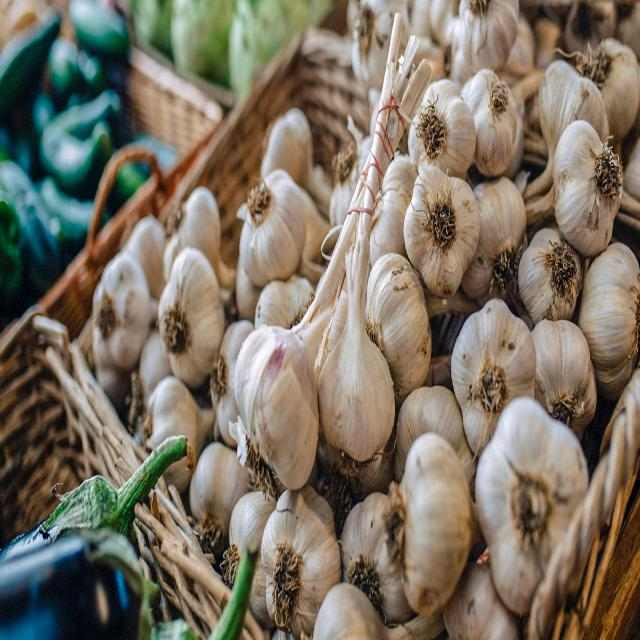garlic: (476, 396, 572, 604), (233, 319, 319, 486), (390, 436, 470, 613), (262, 486, 334, 628), (319, 334, 393, 468), (450, 294, 534, 412), (554, 117, 624, 251), (406, 172, 476, 296), (156, 251, 221, 384), (585, 240, 640, 386), (238, 166, 306, 279), (88, 256, 148, 367), (409, 78, 472, 178), (473, 70, 519, 178)
